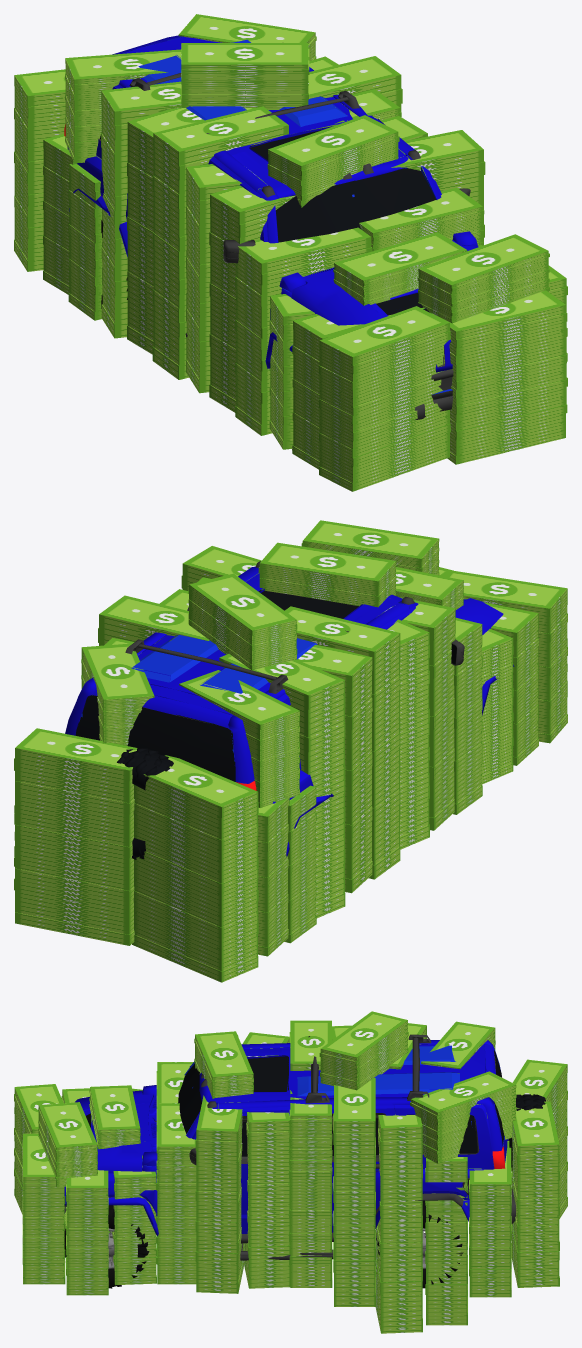
The model's file is hummer_car_money.fbx.
3 views of the same model, one above another, from view 1: azimuth 30°, elevation 25°; view 2: azimuth 150°, elevation 25°; view 3: azimuth 270°, elevation 25° (orthographic). The views are drawn at different scales.
Visible parts, largest first — view 1: Box1889, Box1886, Box1873, Object007, Box1881, Box1875, Box1890, Box1871, Box1053, Box1880, Box1872, Box1883 (+17 smaller); view 2: Box1053, Box1047, object__003, Box1871, Box1873, Box1872, Box1875, Box1889, Box1879, Box1867, Box1883, Box1880 (+13 smaller); view 3: Box1868, Box1869, Box1877, Box1047, object__003, Box1876, Object007, Box1048, Box1049, Box1886, Box1885, Box1892 (+19 smaller).
Part boxes in pixels (x1,y1,x2,y2): Box1889: [319, 306, 450, 491]; Box1886: [430, 290, 567, 464]; Box1873: [152, 106, 288, 379]; Object007: [214, 119, 470, 369]; Box1881: [235, 227, 372, 435]; Box1875: [181, 43, 309, 109]; Box1890: [417, 234, 549, 323]; Box1871: [101, 81, 181, 338]; Box1053: [14, 69, 65, 271]; Box1880: [209, 182, 295, 412]; Box1872: [127, 108, 254, 354]; Box1883: [267, 115, 399, 207]; Box1053: [132, 755, 258, 982]; Box1047: [14, 728, 137, 945]; object__003: [65, 641, 324, 859]; Box1871: [219, 654, 345, 918]; Box1873: [285, 606, 400, 879]; Box1872: [297, 644, 372, 893]; Box1875: [188, 573, 297, 670]; Box1889: [444, 570, 567, 743]; Box1879: [382, 613, 429, 849]; Box1867: [179, 670, 299, 807]; Box1883: [258, 542, 396, 607]; Box1880: [383, 597, 455, 830]; Box1868: [375, 1114, 422, 1333]; Box1869: [333, 1078, 375, 1306]; Box1877: [195, 1095, 244, 1293]; Box1047: [511, 1101, 559, 1287]; object__003: [414, 1034, 545, 1288]; Box1876: [244, 1112, 290, 1288]; Object007: [152, 1043, 281, 1260]; Box1048: [469, 1141, 511, 1297]; Box1049: [425, 1157, 467, 1325]; Box1886: [22, 1133, 65, 1284]; Box1885: [66, 1170, 108, 1295]; Box1892: [410, 1071, 516, 1163].
Bounding box in the file's own units: 211 × 242 × 483.
